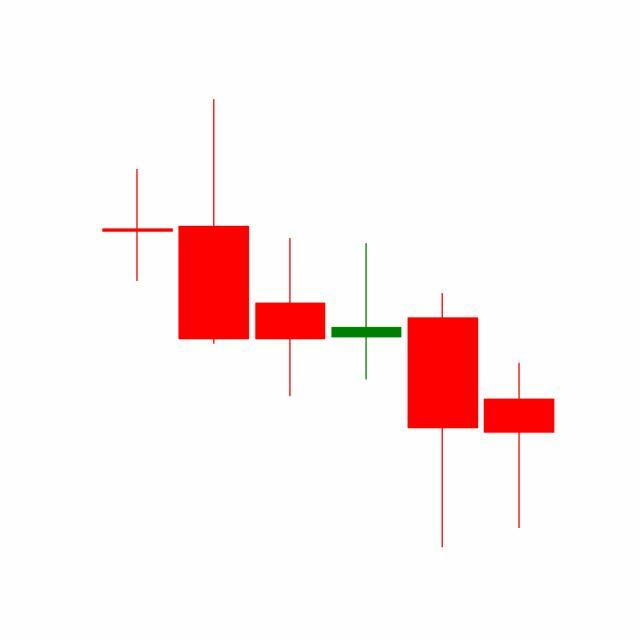Three Outside Up-Down: (326, 239, 555, 549)
